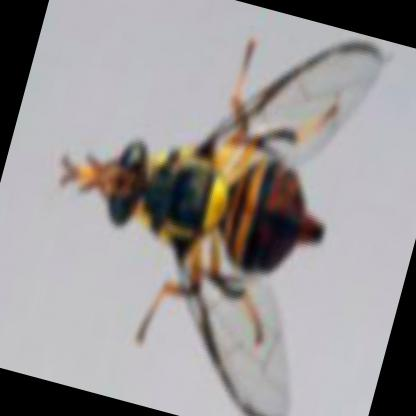fruit fly: (56, 40, 379, 416)
